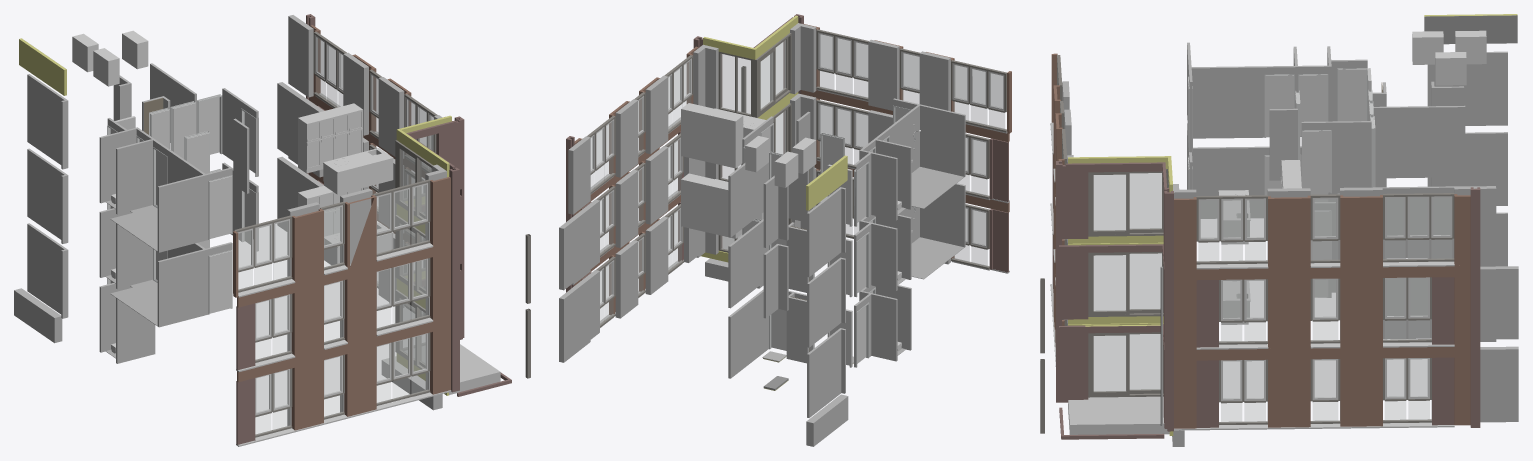
3 views of the same model, side by side, from view 1: azimuth 30°, elevation 25°; view 2: azimuth 150°, elevation 25°; view 3: azimuth 270°, elevation 25° (orthographic). The views are drawn at different scales.
Bounding box in the file's own units: 12.87 × 11.19 × 16.17.
